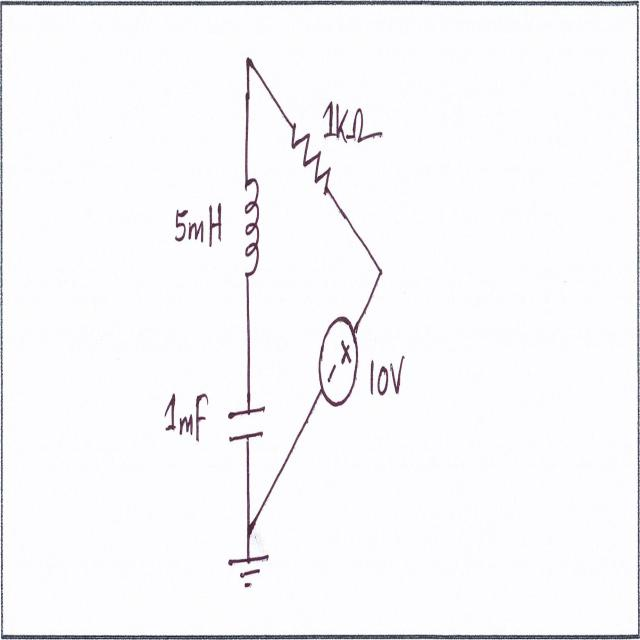capacitor: (225, 398, 269, 453)
ground: (223, 543, 272, 601)
inductor: (238, 170, 263, 286)
resistor: (291, 109, 332, 203)
voltage_source: (313, 313, 363, 413)
